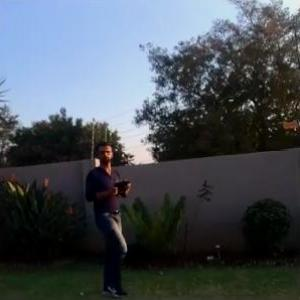follow: (82, 137, 137, 299)
